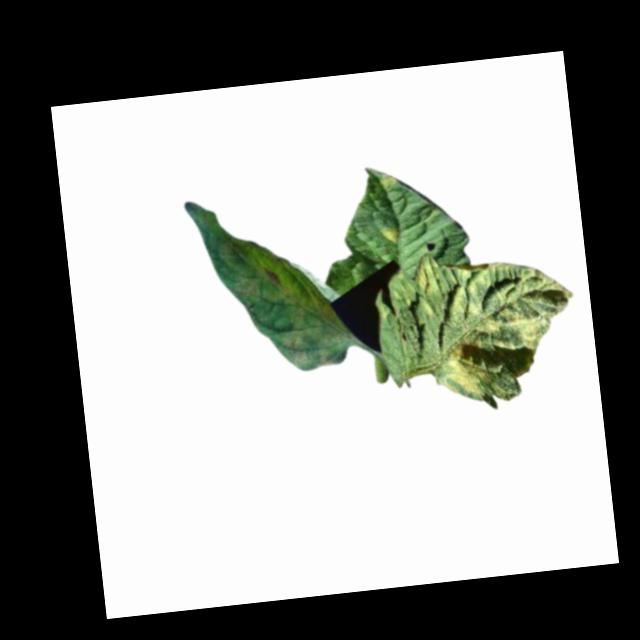Leaf_Mold: (411, 241, 578, 417), (279, 265, 348, 373), (379, 222, 402, 245)
